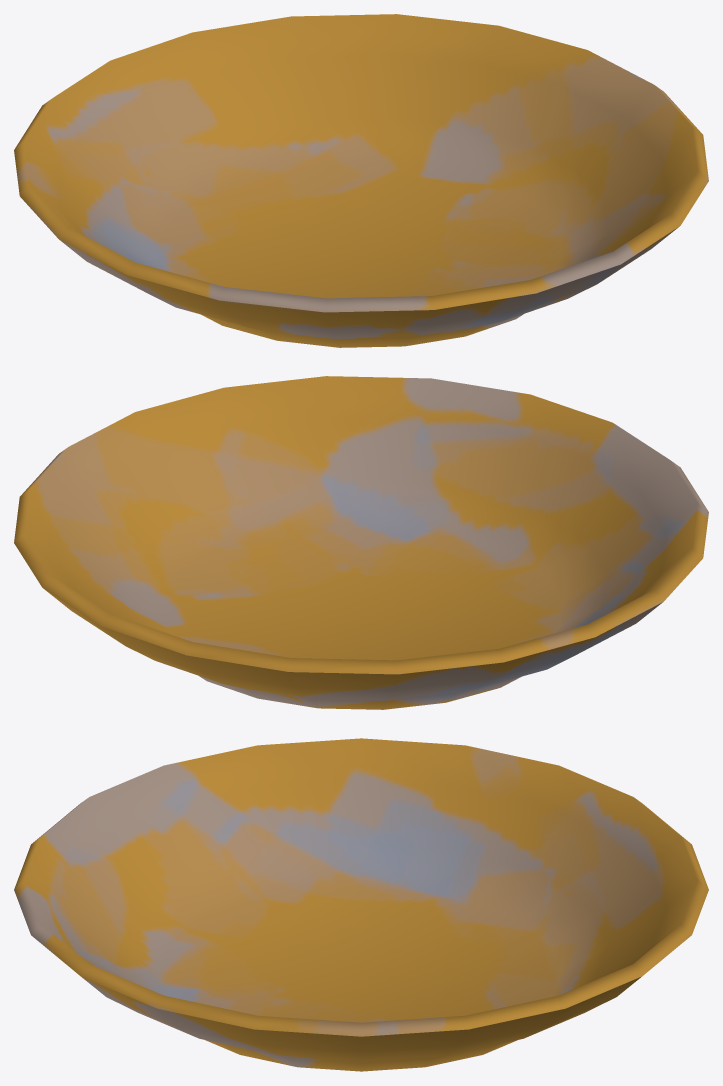
The model's file is SM_Dining_Set_Bowl.fbx.
3 views of the same model, one above another, from view 1: azimuth 30°, elevation 25°; view 2: azimuth 150°, elevation 25°; view 3: azimuth 270°, elevation 25° (orthographic).
Visible parts, largest first — view 1: SM_Dining_Set_Bowl_LOD0; view 2: SM_Dining_Set_Bowl_LOD0; view 3: SM_Dining_Set_Bowl_LOD0.
Boxes of the visible parts, box(x1,y1,x2,y2) form: SM_Dining_Set_Bowl_LOD0: box(14, 14, 708, 347); SM_Dining_Set_Bowl_LOD0: box(14, 376, 708, 709); SM_Dining_Set_Bowl_LOD0: box(14, 738, 708, 1071).
Bounding box in the file's own units: 57.96 × 57.96 × 9.89.
Materials: 1 (1 with a texture image).
